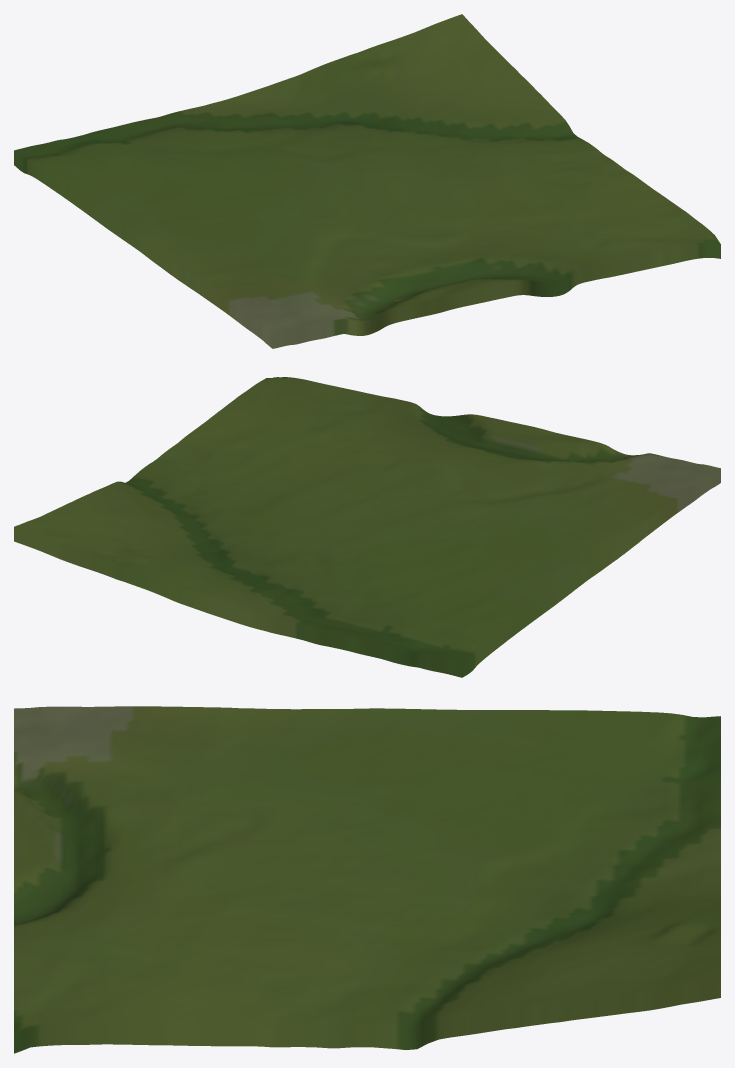
The model's file is terrain_10_-12.glb.
3 renders of one model, top to bottom at view 1: azimuth 30°, elevation 25°; view 2: azimuth 150°, elevation 25°; view 3: azimuth 270°, elevation 25°, orthographic. The views are drawn at different scales.
Parts seen in each view (by area): view 1: terrain_10_-12; view 2: terrain_10_-12; view 3: terrain_10_-12.
Part boxes in pixels (bbox=[...]): terrain_10_-12: bbox=[14, 14, 720, 348]; terrain_10_-12: bbox=[14, 377, 720, 677]; terrain_10_-12: bbox=[14, 706, 720, 1053].
Size of the model in its own units: 256 by 30.3 by 256.
